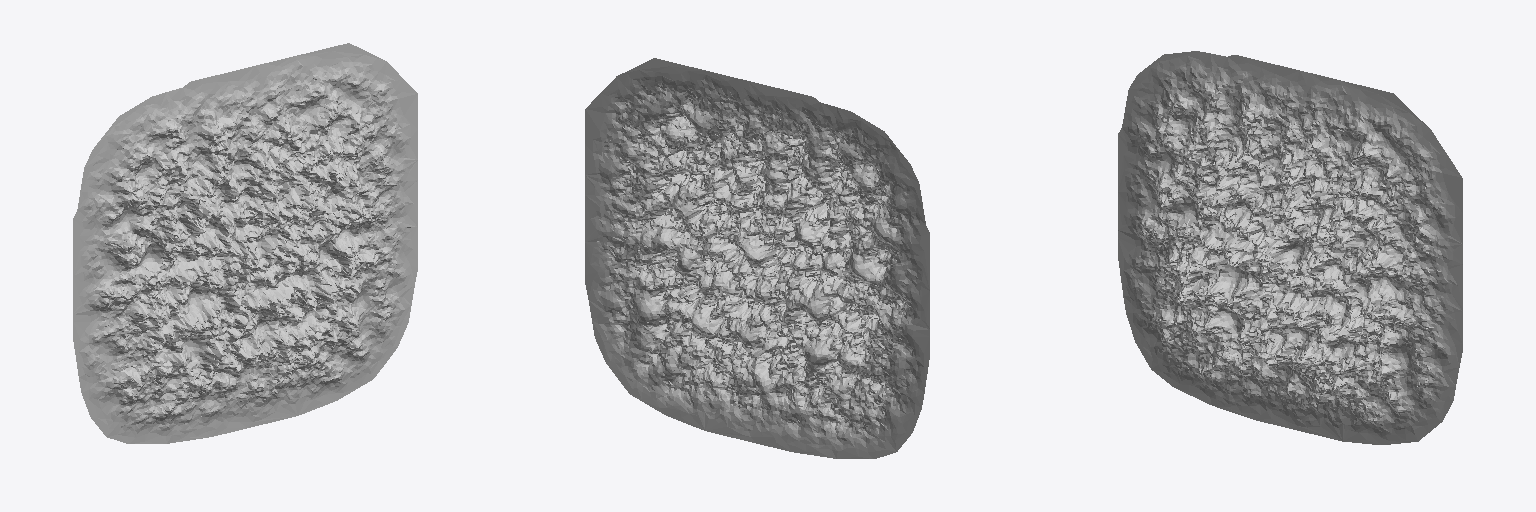
The model's file is Mountain3.obj.
3 renders of one model, left to right at view 1: azimuth 30°, elevation 25°; view 2: azimuth 150°, elevation 25°; view 3: azimuth 330°, elevation 25°, orthographic.
Visible parts, largest first — view 1: Landscape.001; view 2: Landscape.001; view 3: Landscape.001.
Boxes of the visible parts, x1=… form: Landscape.001: x1=73, y1=43, x2=417, y2=443; Landscape.001: x1=585, y1=58, x2=929, y2=458; Landscape.001: x1=1118, y1=51, x2=1462, y2=444.
Size of the model in its own units: 32 by 32 by 3.32.